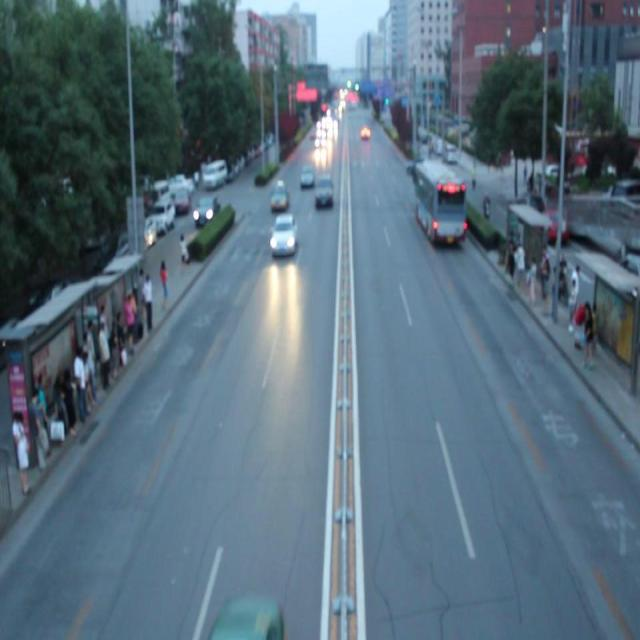car: (272, 212, 295, 256), (315, 173, 332, 203), (270, 179, 287, 206), (300, 165, 313, 185)
van: (414, 161, 466, 241)
